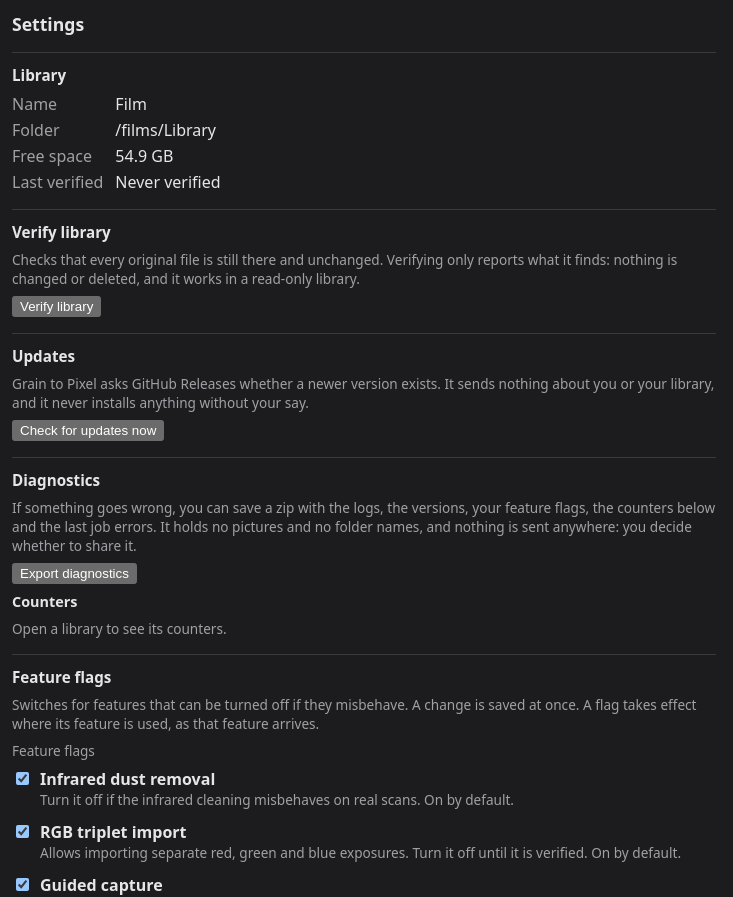
Scenario: verifying the library from Settings › what a check found › lists each problem with its file and the reason in words
Click the button "Verify library".
click(57, 306)  # box [12,296,101,317]
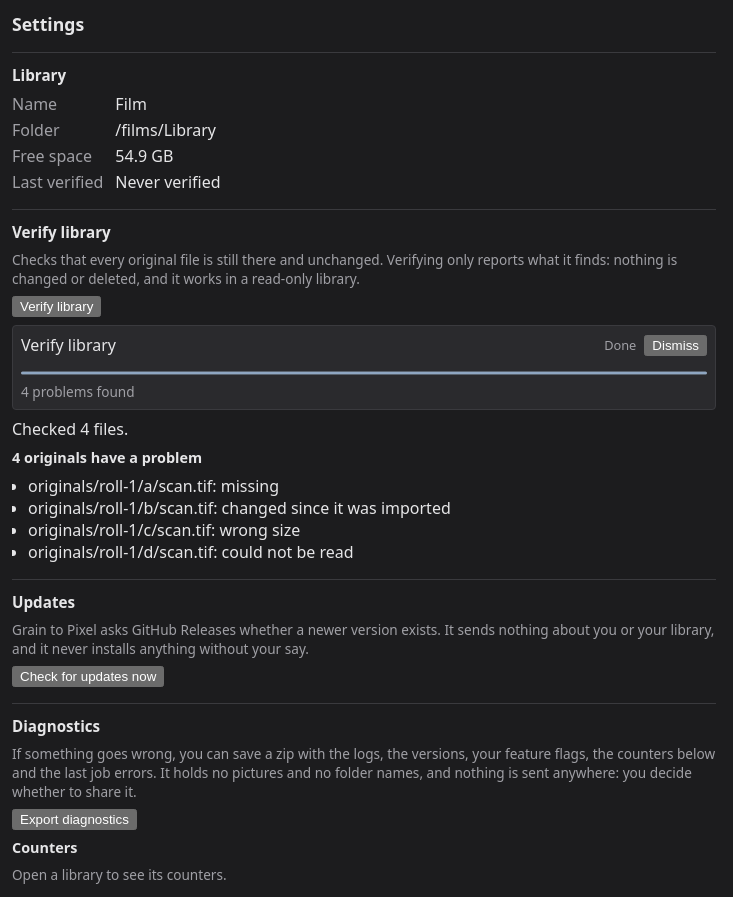
Expected: the progress indicator named "Verify library" is shown, [21,370,707,376]
Expected: the heading "4 originals have a problem" is shown, [12,448,202,467]
Expected: the list items read "originals/roll-1/a/scan.tif: missing", "originals/roll-1/b/scan.tif: changed since it was imported", "originals/roll-1/c/scan.tif: wrong size", "originals/roll-1/d/scan.tif: could not be read", in this order, [28,475,279,497]; [28,497,451,519]; [28,519,300,541]; [28,541,354,563]
